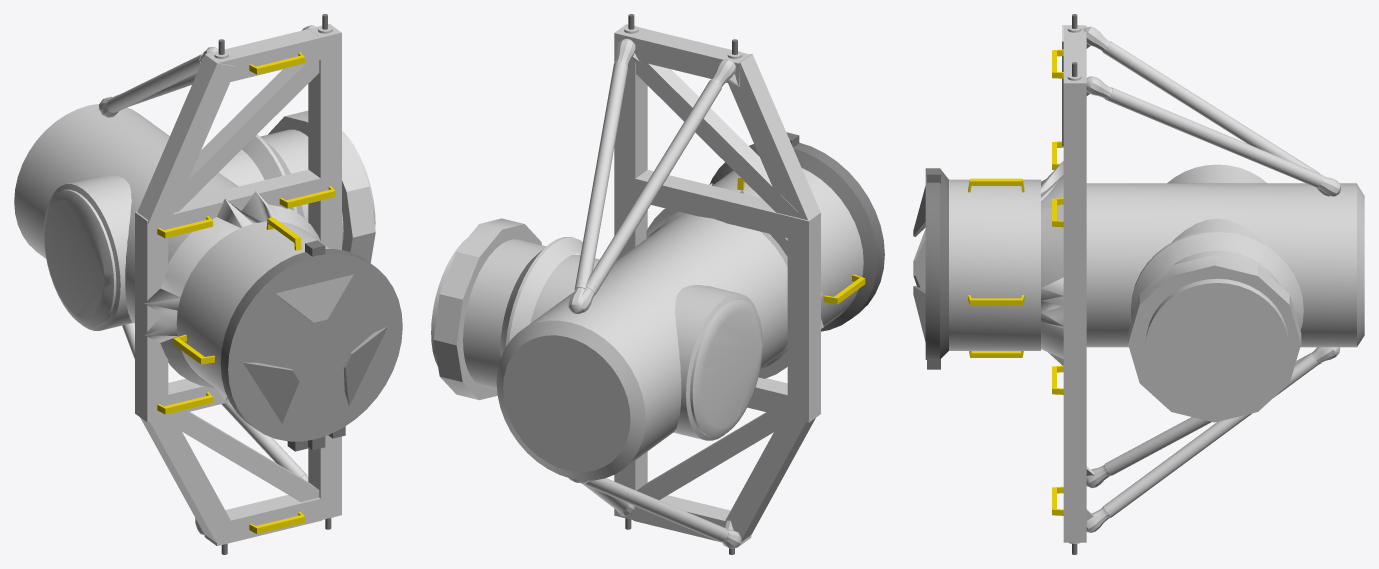
File: shuttle_ods.glb
3 views of the same model, side by side, from view 1: azimuth 30°, elevation 25°; view 2: azimuth 150°, elevation 25°; view 3: azimuth 270°, elevation 25° (orthographic). The views are drawn at different scales.
Visible parts, largest first — view 1: ods.layer1; view 2: ods.layer1; view 3: ods.layer1.
Part boxes in pixels (x1,y1,x2,y2): ods.layer1: [14, 14, 402, 554]; ods.layer1: [431, 14, 884, 554]; ods.layer1: [913, 14, 1364, 554].
Bounding box in the file's own units: 107 × 192 × 160.
